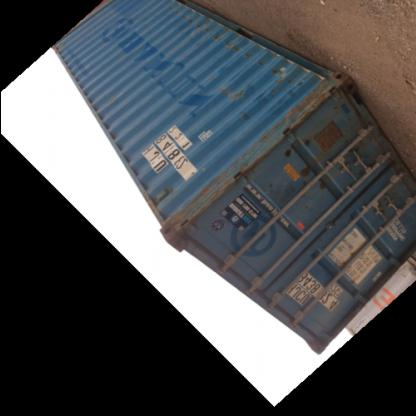Damage: (188, 20, 285, 78), (207, 148, 268, 196), (272, 82, 338, 126), (178, 156, 212, 235), (152, 217, 192, 249), (216, 80, 250, 100), (278, 174, 292, 212), (294, 135, 314, 151), (278, 144, 294, 160), (295, 165, 311, 181)
